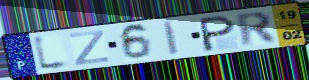6: (117, 23, 154, 62)
I: (161, 20, 181, 57)
L: (31, 33, 74, 73)
P: (200, 13, 238, 53)
R: (233, 11, 280, 49)
Z: (68, 29, 111, 67)
